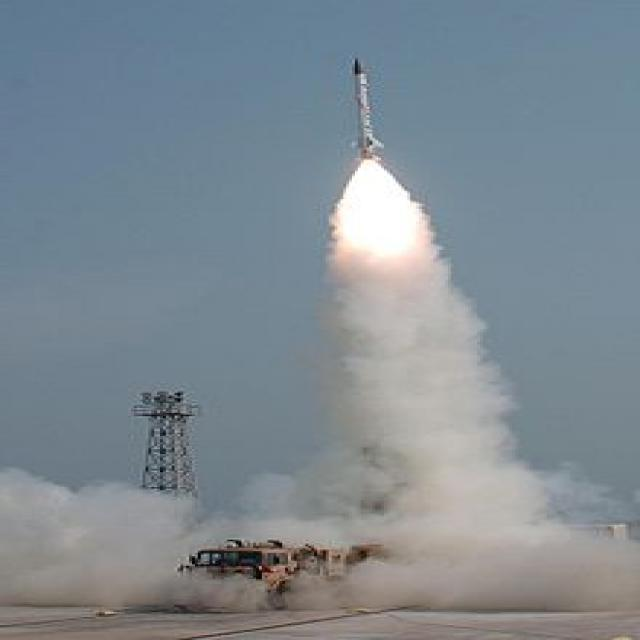missile: (352, 53, 386, 165)
